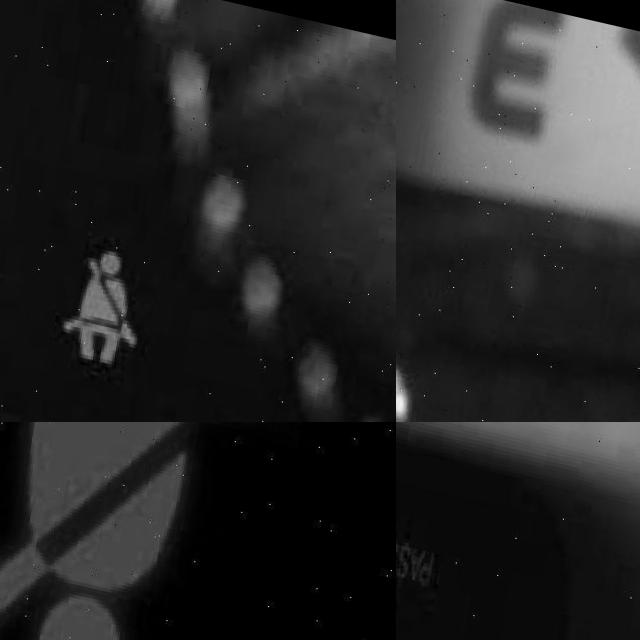Seat Belt: (0, 422, 334, 640), (68, 229, 160, 355)
